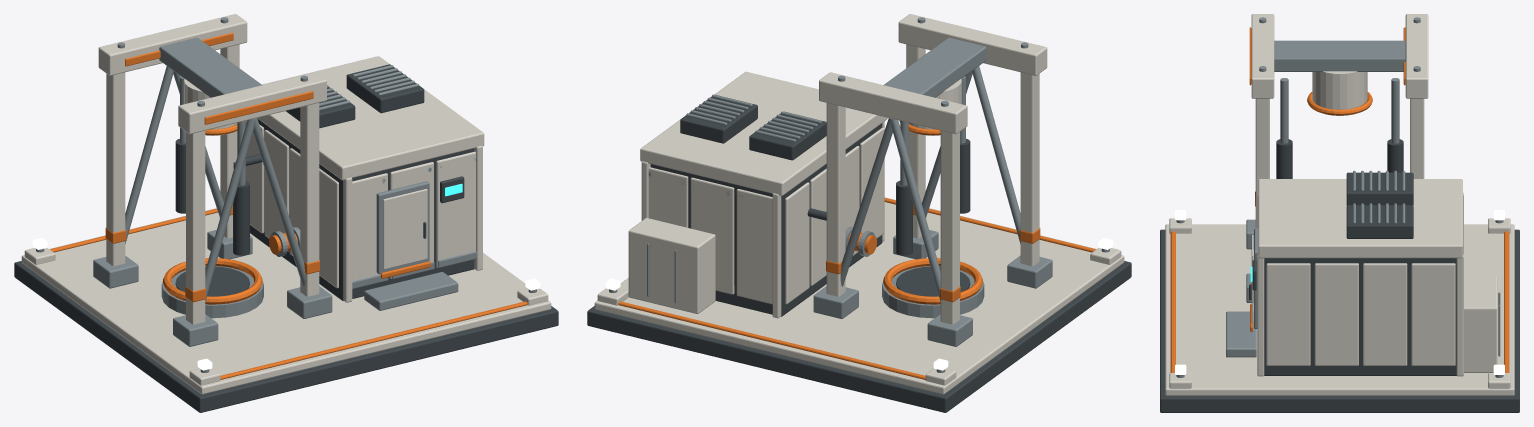
File: SM_UraniumMine_Refined.fbx
3 views of the same model, side by side, from view 1: azimuth 30°, elevation 25°; view 2: azimuth 150°, elevation 25°; view 3: azimuth 270°, elevation 25° (orthographic). The views are drawn at different scales.
Visible parts, largest first — view 1: SM_UraniumMine_Refined; view 2: SM_UraniumMine_Refined; view 3: SM_UraniumMine_Refined.
Part boxes in pixels (x1,y1,x2,y2): SM_UraniumMine_Refined: (14,14,558,412); SM_UraniumMine_Refined: (587,14,1131,412); SM_UraniumMine_Refined: (1160,14,1519,412).
Bounding box in the file's own units: 390 × 350 × 269.
